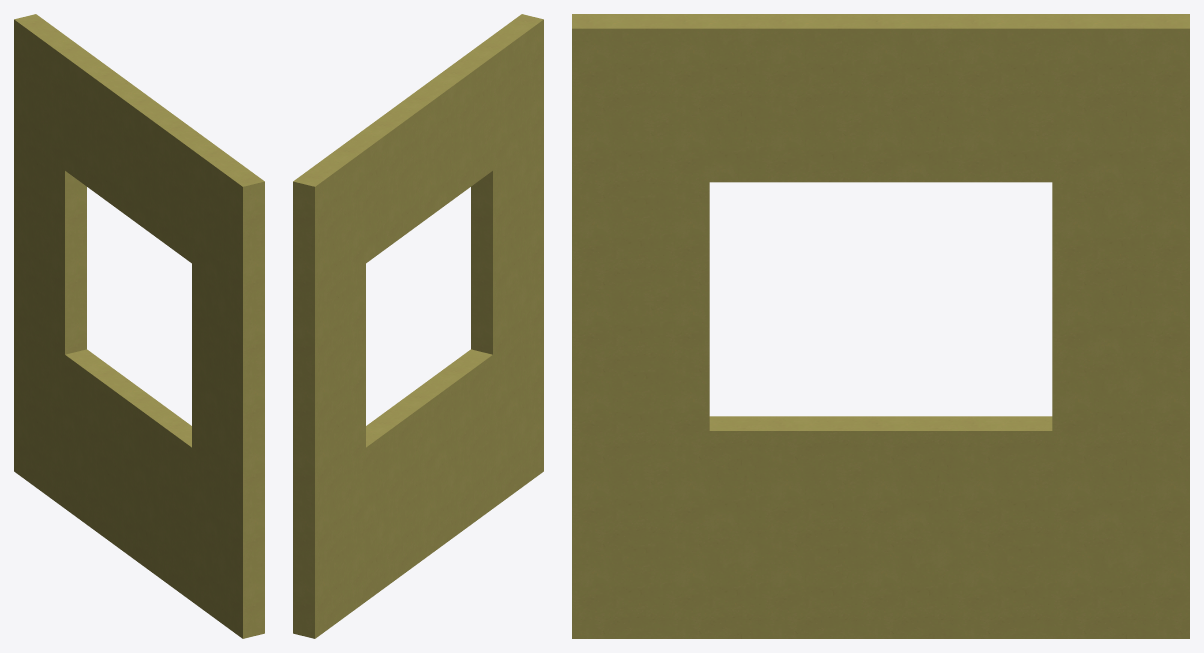
The model's file is soupwindwall040.glb.
3 renders of one model, left to right at view 1: azimuth 30°, elevation 25°; view 2: azimuth 150°, elevation 25°; view 3: azimuth 270°, elevation 25°, orthographic. The views are drawn at different scales.
Parts seen in each view (by area): view 1: soupwindwall040_high_1; view 2: soupwindwall040_high_1; view 3: soupwindwall040_high_1.
Boxes of the visible parts, left/top/right/bottom form: soupwindwall040_high_1: left=14, top=14, right=264, bottom=638; soupwindwall040_high_1: left=293, top=14, right=543, bottom=638; soupwindwall040_high_1: left=572, top=14, right=1189, bottom=638.
Bounding box in the file's own units: 0.1504 × 2.95 × 2.7.
Materials: 1 (1 with a texture image).
